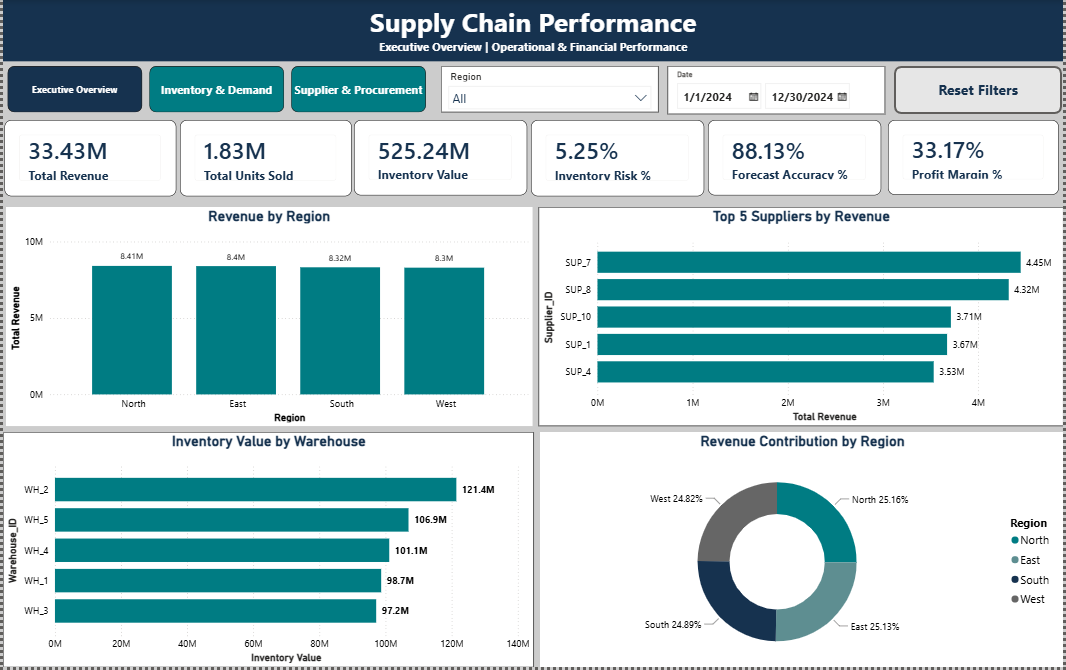

The dashboard page shown, as its layout file describes it:
{"tool":"powerbi","page":{"name":"Executive Overview","canvas":[1510,950],"ordinal":0},"visuals":[{"type":"cardVisual","fields":{"Data":["Measures Table.Total Revenue"]},"box":[1.3,170.4,244.7,109],"z":0},{"type":"textbox","box":[0,0,1510.5,87.6],"z":1000},{"type":"cardVisual","fields":{"Data":["Measures Table.Total Units Sold"]},"box":[252.3,170.1,244.7,109],"z":2000},{"type":"cardVisual","fields":{"Data":["Measures Table.Inventory Value"]},"box":[500.8,170.1,246.6,107],"z":3000},{"type":"cardVisual","fields":{"Data":["Measures Table.Inventory Risk %"]},"box":[751.3,170.1,246.6,109],"z":4000},{"type":"cardVisual","fields":{"Data":["Measures Table.Forecast Accuracy %"]},"box":[1003.6,170.1,246.6,107],"z":5000},{"type":"cardVisual","fields":{"Data":["Measures Table.Profit Margin %"]},"box":[1260.5,170.9,243.6,106.8],"z":6000},{"type":"clusteredBarChart","title":"Top 5 Suppliers by Revenue","fields":{"Category":["Dim_Supplier.Supplier_ID"],"Y":["Measures Table.Total Revenue"]},"box":[762.7,294.8,747.8,311.9],"z":7000},{"type":"clusteredBarChart","title":"Inventory Value by Warehouse","fields":{"Category":["Dim_Warehouse.Warehouse_ID"],"Y":["Measures Table.Inventory Value"]},"box":[0,615.3,756.3,335.4],"z":8000},{"type":"clusteredColumnChart","title":"Revenue by Region","fields":{"Category":["Dim_Region.Region"],"Y":["Measures Table.Total Revenue"]},"box":[4.3,294.8,749.9,311.9],"z":9000},{"type":"donutChart","title":"Revenue Contribution by Region","fields":{"Y":["Measures Table.Regional Revenue %"],"Category":["Dim_Region.Region"]},"box":[764.9,615.3,747.8,335.4],"z":10000},{"type":"pageNavigator","box":[6.4,94,598.2,66.2],"z":11000},{"type":"slicer","fields":{"Values":["Dim_Region.Region"]},"box":[623.9,94,309.8,66.2],"z":12000},{"type":"slicer","fields":{"Values":["Dim_Date.Date"]},"box":[946.5,94,309.8,68.4],"z":13000},{"type":"actionButton","box":[1269.1,94,239.3,68.4],"z":14000}]}

Visuals, with their boxes in screenshot pixels (x1, y1, x2, y2), scaled from the page's 1510x950 canvas onto the 1066x670 screenshot:
cardVisual - Measures Table.Total Revenue: <region>1, 120, 174, 197</region>
textbox: <region>0, 0, 1065, 62</region>
cardVisual - Measures Table.Total Units Sold: <region>178, 120, 351, 197</region>
cardVisual - Measures Table.Inventory Value: <region>354, 120, 528, 195</region>
cardVisual - Measures Table.Inventory Risk %: <region>530, 120, 704, 197</region>
cardVisual - Measures Table.Forecast Accuracy %: <region>709, 120, 883, 195</region>
cardVisual - Measures Table.Profit Margin %: <region>890, 121, 1062, 196</region>
"Top 5 Suppliers by Revenue" clusteredBarChart: <region>538, 208, 1065, 428</region>
"Inventory Value by Warehouse" clusteredBarChart: <region>0, 434, 534, 669</region>
"Revenue by Region" clusteredColumnChart: <region>3, 208, 532, 428</region>
"Revenue Contribution by Region" donutChart: <region>540, 434, 1065, 669</region>
pageNavigator: <region>5, 66, 427, 113</region>
slicer - Dim_Region.Region: <region>440, 66, 659, 113</region>
slicer - Dim_Date.Date: <region>668, 66, 887, 115</region>
actionButton: <region>896, 66, 1065, 115</region>
